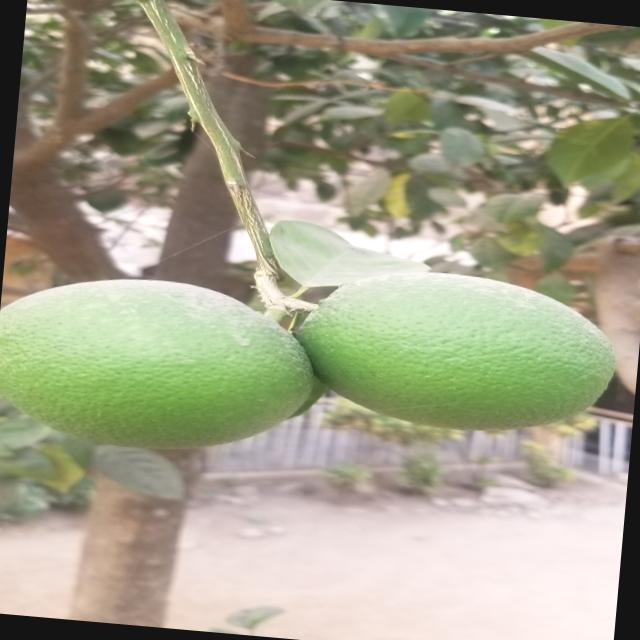Unripe: (292, 258, 624, 446), (5, 268, 322, 464)
